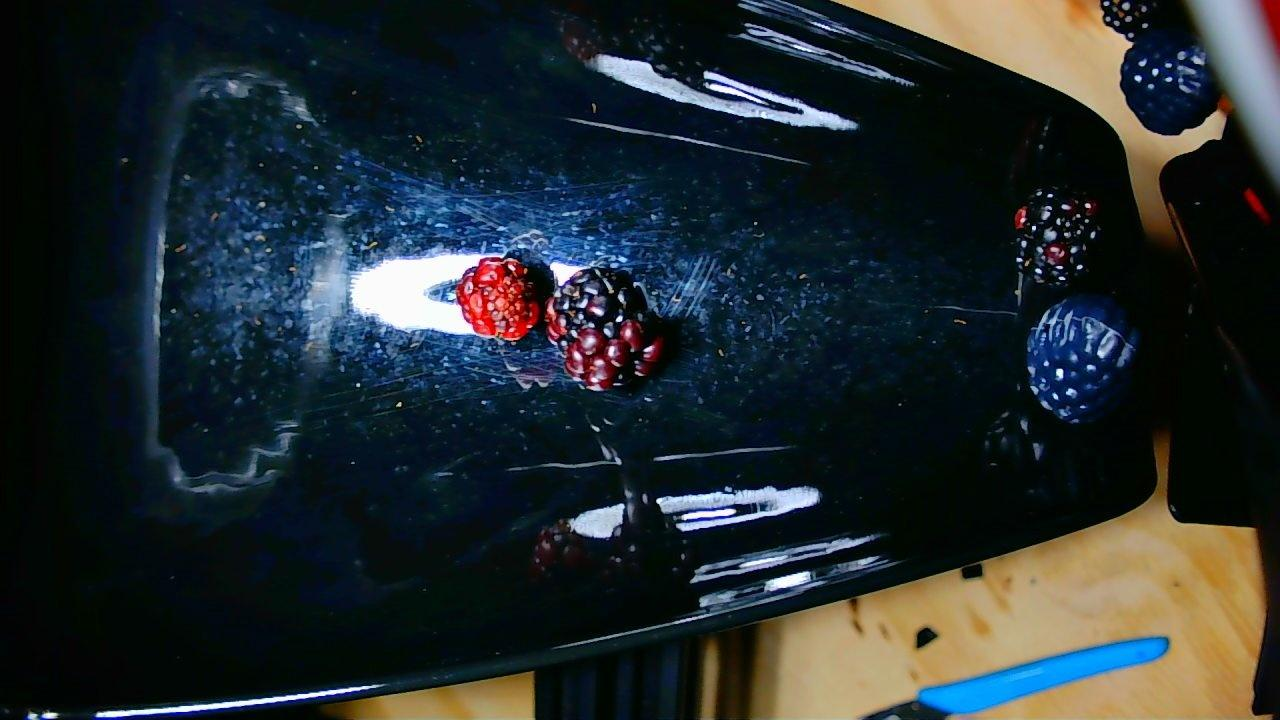berry: (1026, 294, 1139, 423), (547, 267, 664, 389), (1120, 28, 1220, 133), (1015, 188, 1101, 285), (456, 257, 541, 340), (1099, 0, 1181, 40)
